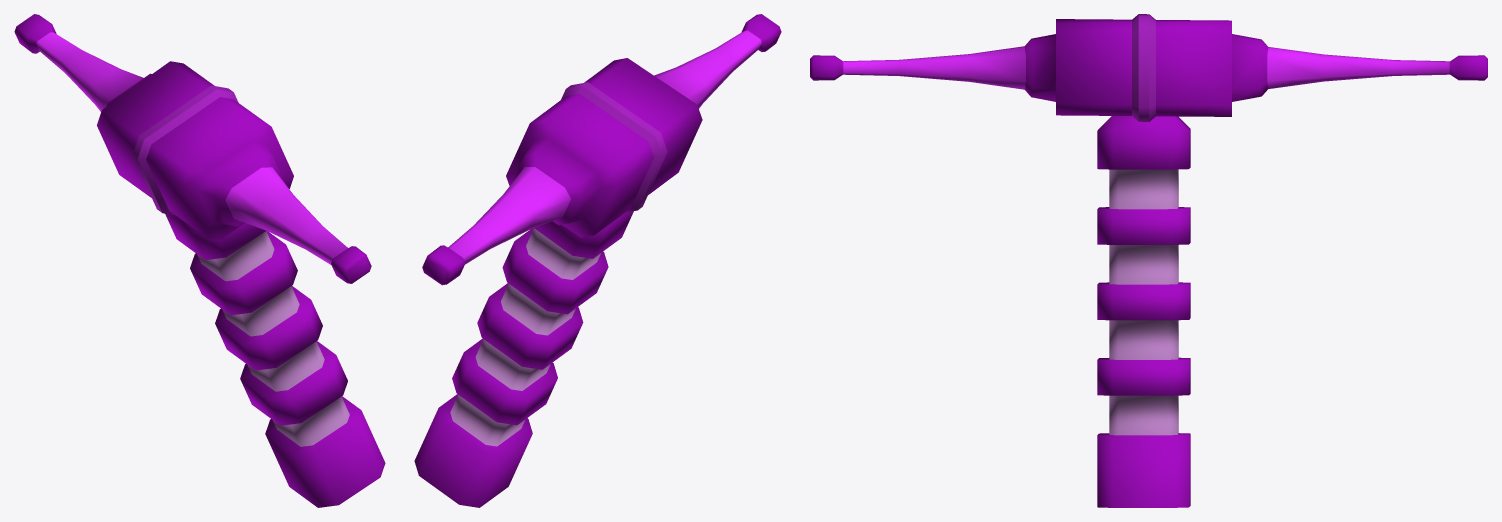
File: fusionStart.glb
The picture shows the model from 3 angles, left to right: view 1: azimuth 30°, elevation 25°; view 2: azimuth 150°, elevation 25°; view 3: azimuth 270°, elevation 25°; orthographic projection. The views are drawn at different scales.
Parts seen in each view (by area): view 1: body.004; view 2: body.004; view 3: body.004.
Part boxes in pixels (box(x1,y1,x2,y2)): body.004: box(14, 14, 385, 507); body.004: box(414, 14, 781, 507); body.004: box(810, 14, 1487, 507).
Bounding box in the file's own units: 0.1831 × 0.3213 × 0.4454.
1 material, 1 textured.
